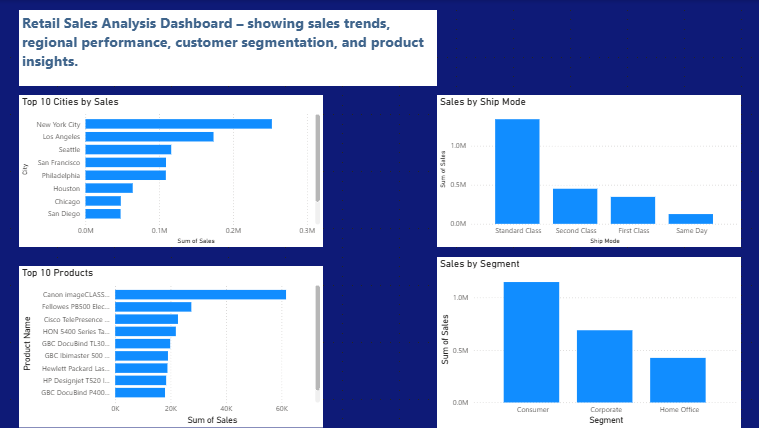

What the dashboard file says about the page in this screenshot:
{"tool":"powerbi","page":{"name":"Insights","canvas":[1280,720],"ordinal":1},"visuals":[{"type":"barChart","title":"Top 10 Products","fields":{"Category":["train.Product Name"],"Y":["Sum(train.Sales)"]},"box":[32,448,512,272],"z":0},{"type":"barChart","title":"Top 10 Cities by Sales","fields":{"Category":["train.City"],"Y":["Sum(train.Sales)"]},"box":[32,160,512,256],"z":1000},{"type":"clusteredColumnChart","title":"Sales by Ship Mode","fields":{"Category":["train.Ship Mode"],"Y":["Sum(train.Sales)"]},"box":[736,160,512,256],"z":1001},{"type":"clusteredColumnChart","title":"Sales by Segment","fields":{"Category":["train.Segment"],"Y":["Sum(train.Sales)"]},"box":[736,432,512,288],"z":1002},{"type":"textbox","box":[32,16,704,128],"z":1003}]}

Visuals, with their boxes in screenshot pixels (x1, y1, x2, y2), scaled from the page's 1280x720 canvas onto the 759x428 screenshot:
"Top 10 Products" barChart: [left=19, top=266, right=323, bottom=427]
"Top 10 Cities by Sales" barChart: [left=19, top=95, right=323, bottom=247]
"Sales by Ship Mode" clusteredColumnChart: [left=436, top=95, right=740, bottom=247]
"Sales by Segment" clusteredColumnChart: [left=436, top=257, right=740, bottom=427]
textbox: [left=19, top=10, right=436, bottom=86]
